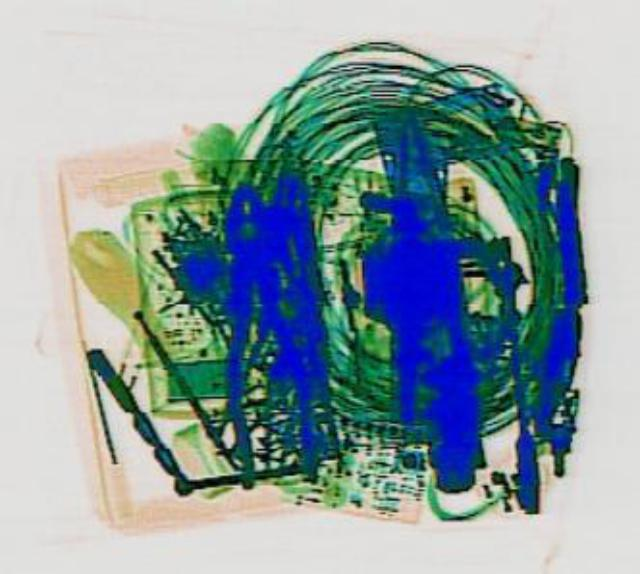Pliers: (200, 178, 320, 486)
